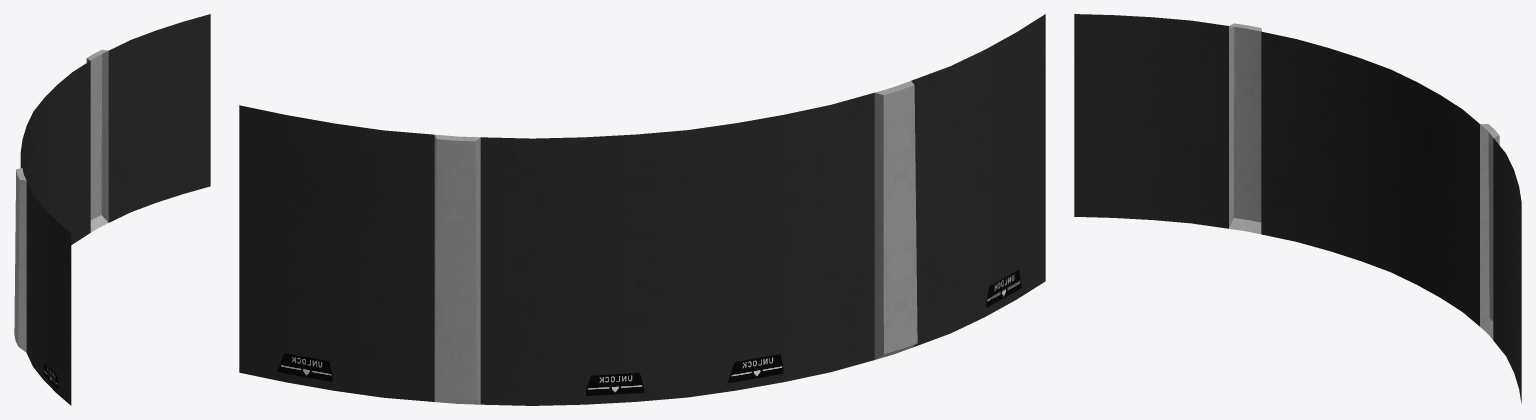
The model's file is S_TopAstraCurveRoundOuter.gltf.
3 views of the same model, side by side, from view 1: azimuth 30°, elevation 25°; view 2: azimuth 150°, elevation 25°; view 3: azimuth 270°, elevation 25° (orthographic). The views are drawn at different scales.
Visible parts, largest first — view 1: Plane_251-col; view 2: Plane_251-col; view 3: Plane_251-col.
Boxes of the visible parts, bbox=[...] form: Plane_251-col: bbox=[14, 14, 210, 405]; Plane_251-col: bbox=[239, 14, 1045, 405]; Plane_251-col: bbox=[1074, 14, 1521, 403].
Bounding box in the file's own units: 4 × 2 × 4.
Materials: 3 (3 with a texture image).
